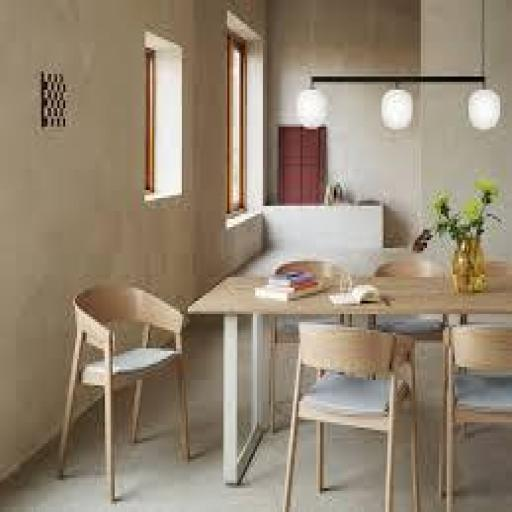chair: (54, 276, 197, 508), (285, 309, 427, 512), (435, 311, 512, 512)
